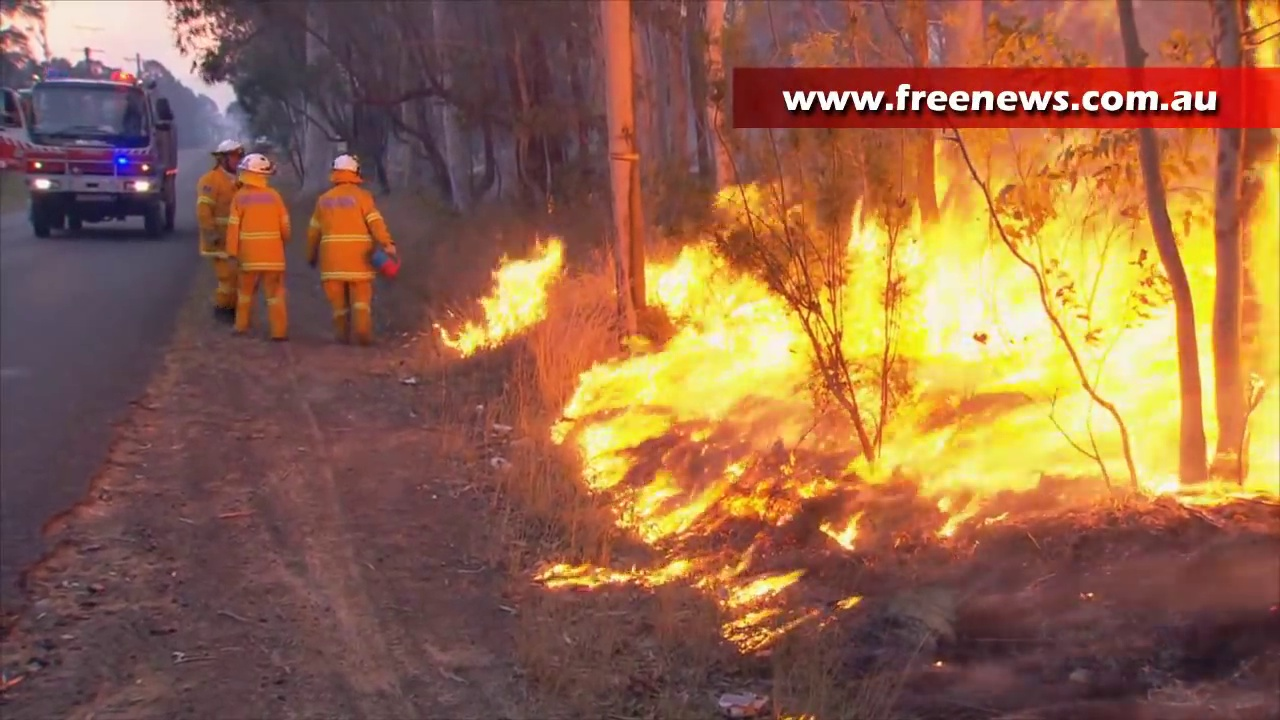fire: (564, 129, 1280, 559), (536, 556, 803, 644), (454, 230, 561, 356)
